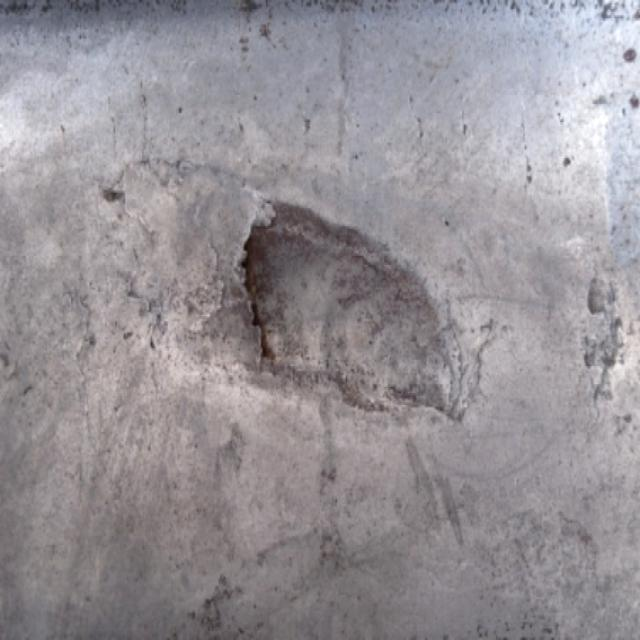Blue hole: (240, 198, 460, 424)
Peeling: (585, 269, 619, 406)
